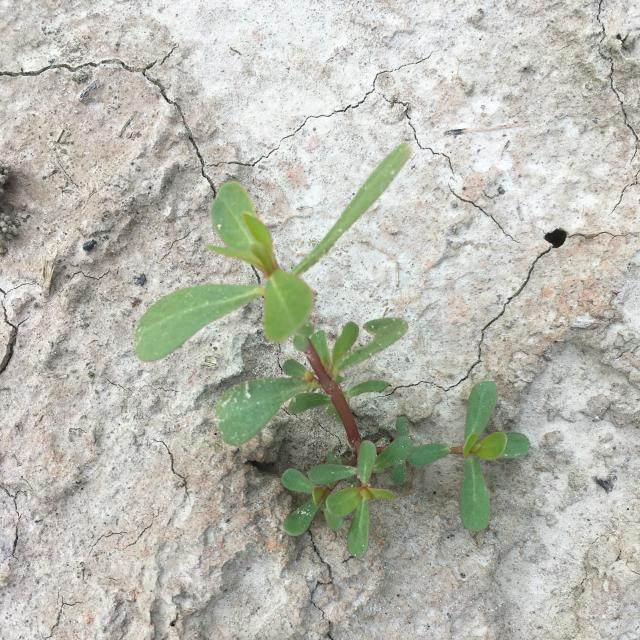Purslane: (133, 142, 532, 560)
